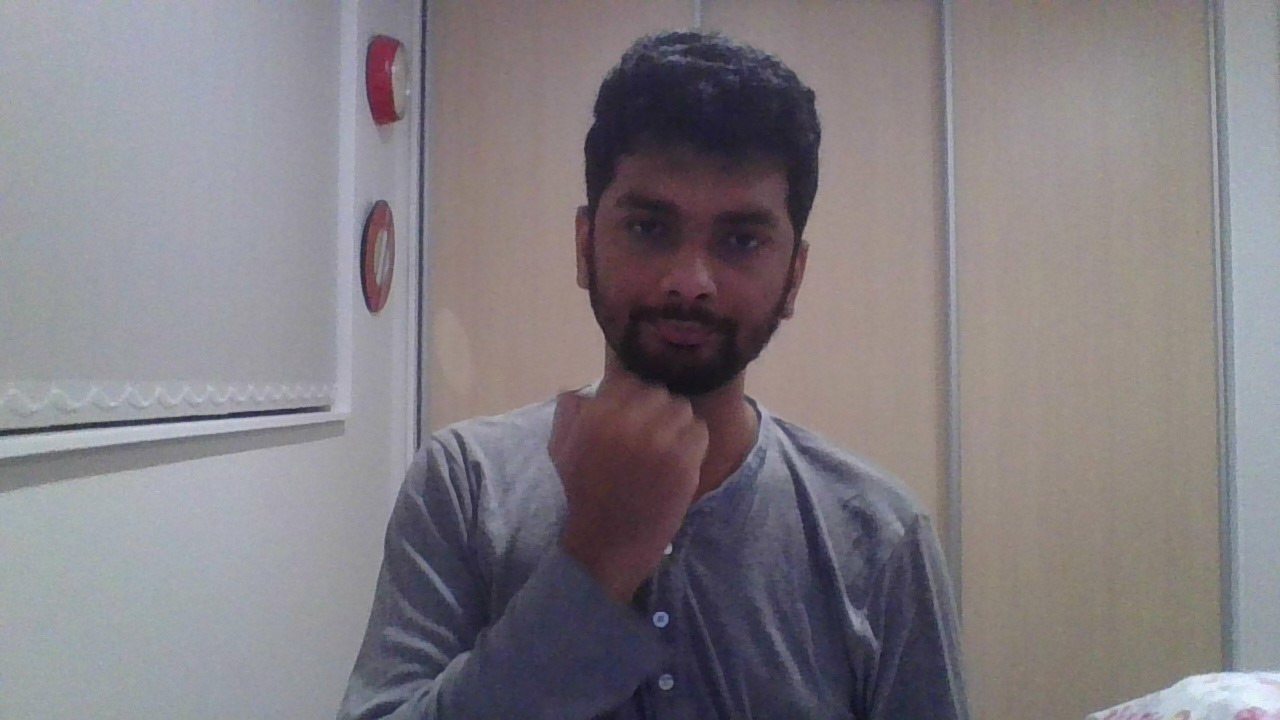day: (549, 373, 711, 603)
